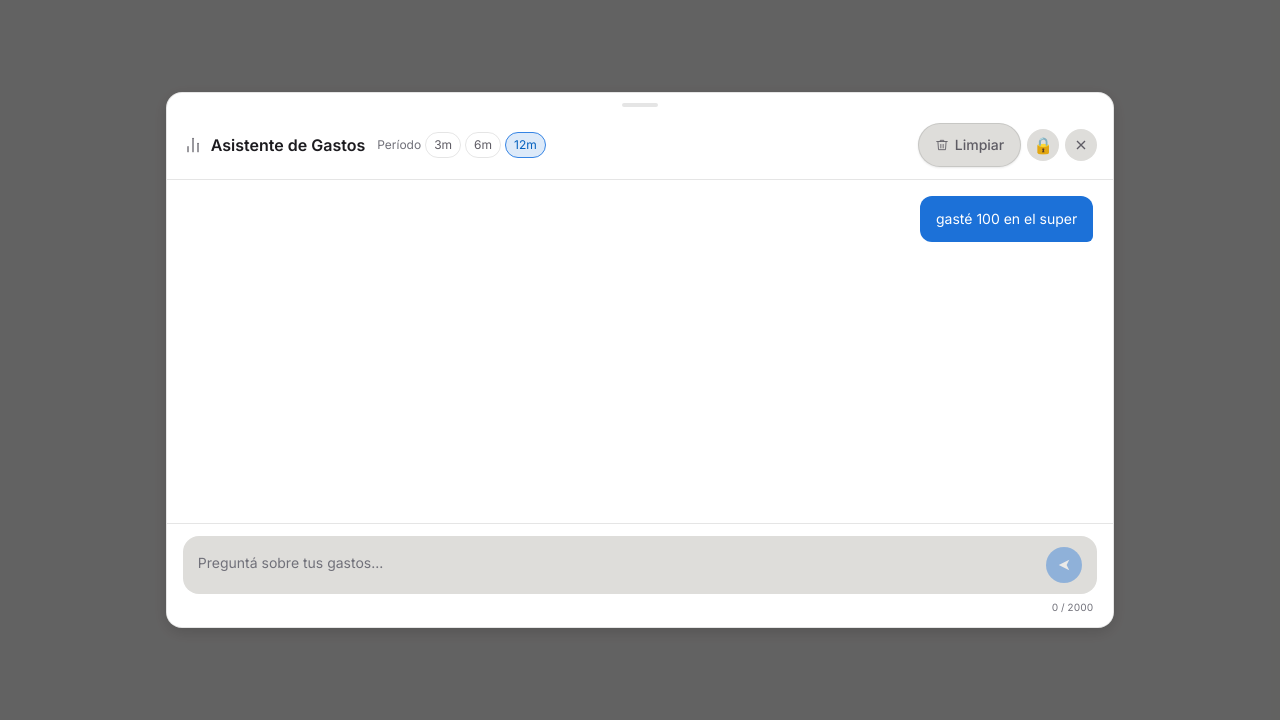
AssistantShell › routes an investments question to the investments endpoint and flips the chrome
Type "¿cómo viene mi cartera?" into the text box at coordinates (618, 564), box top-left (198, 550), bottom-right (1038, 577)
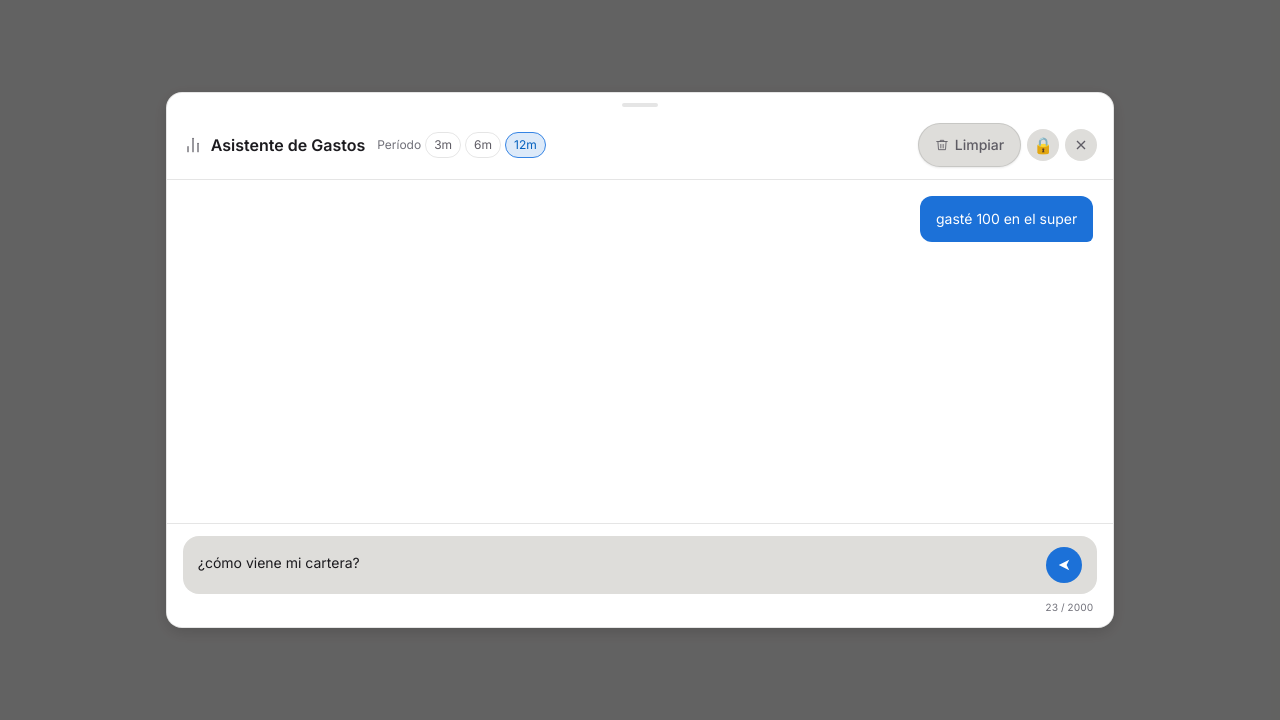
Submit the form, box top-left (183, 536), bottom-right (1097, 594)
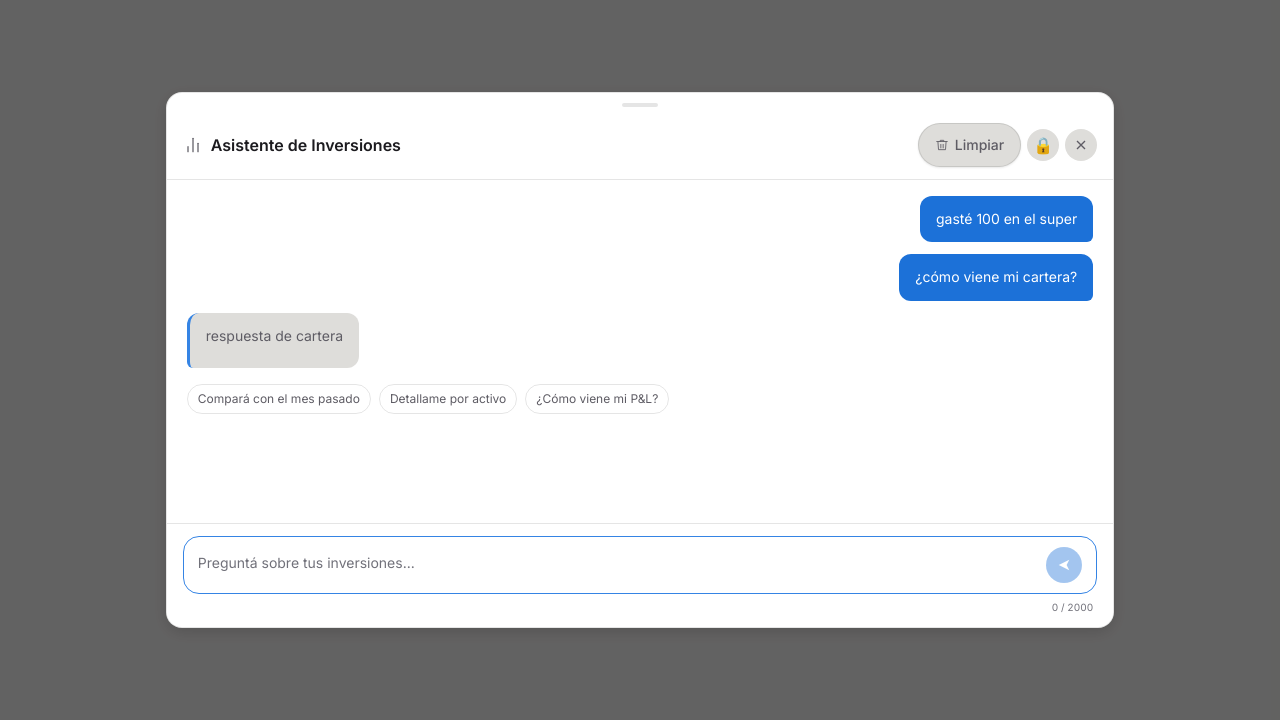
Expected: the text "respuesta de cartera" is shown, top-left (206, 325), bottom-right (343, 348)
Expected: the text "¿cómo viene mi cartera?" is shown, top-left (899, 254), bottom-right (1093, 301)
